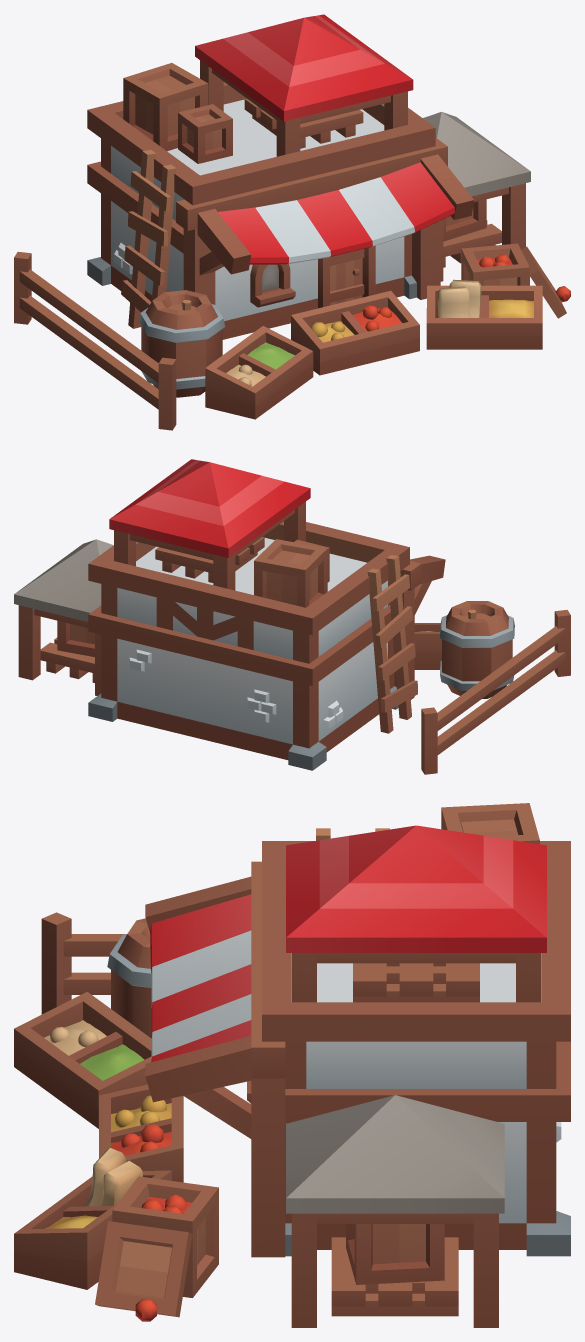
Rendered from building_market_red.gltf.
3 views of the same model, one above another, from view 1: azimuth 30°, elevation 25°; view 2: azimuth 150°, elevation 25°; view 3: azimuth 270°, elevation 25° (orthographic). The views are drawn at different scales.
Visible parts, largest first — view 1: building_market_red; view 2: building_market_red; view 3: building_market_red.
Boxes of the visible parts, box(x1,y1,x2,y2) form: building_market_red: box(14, 14, 570, 430); building_market_red: box(14, 459, 570, 774); building_market_red: box(14, 803, 570, 1327).
Bounding box in the file's own units: 1.8 × 0.9818 × 1.32.
Materials: 1 (1 with a texture image).
